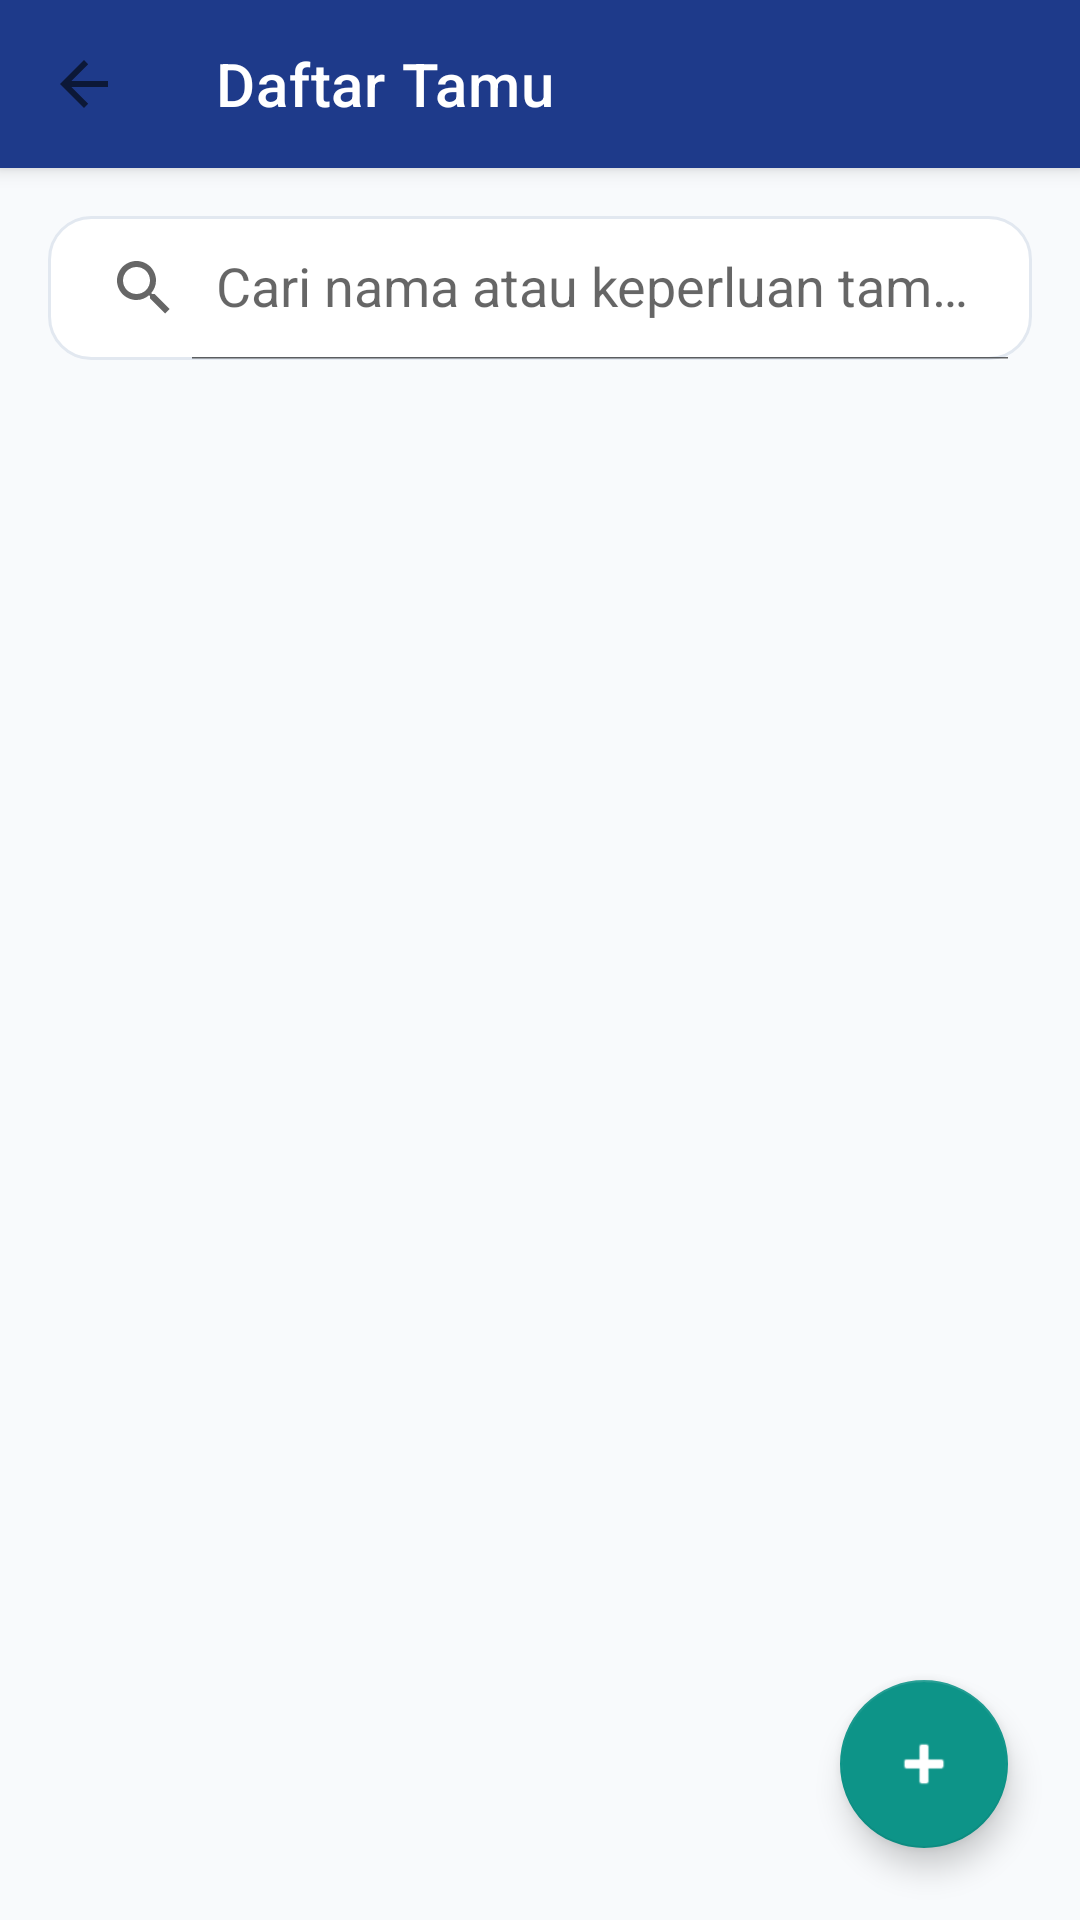

Where to tap for icons on this 1080 x 1920 app screen, as [x,y]:
Tambah Tamu: [924,1764]
